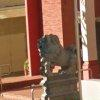Statue: (26, 28, 85, 87)
